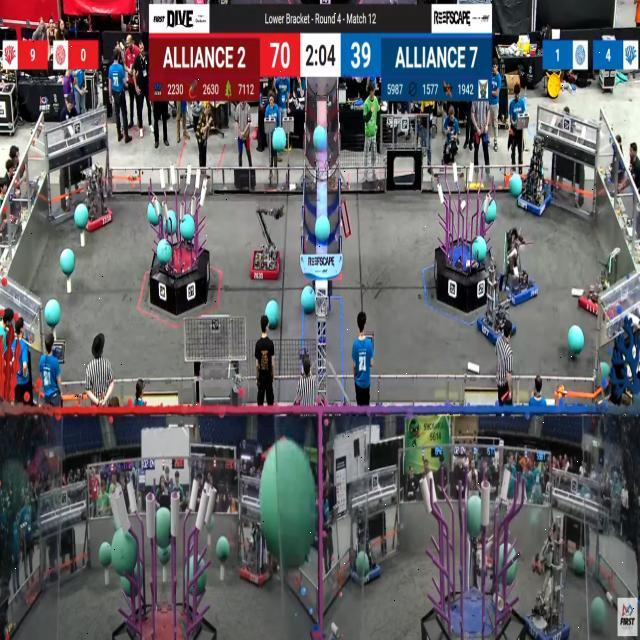Robot-YfA7: (529, 514, 573, 639), (579, 244, 623, 322), (478, 258, 512, 347), (502, 228, 543, 301), (252, 201, 286, 280), (516, 137, 548, 217), (239, 515, 270, 587), (81, 162, 109, 233)
